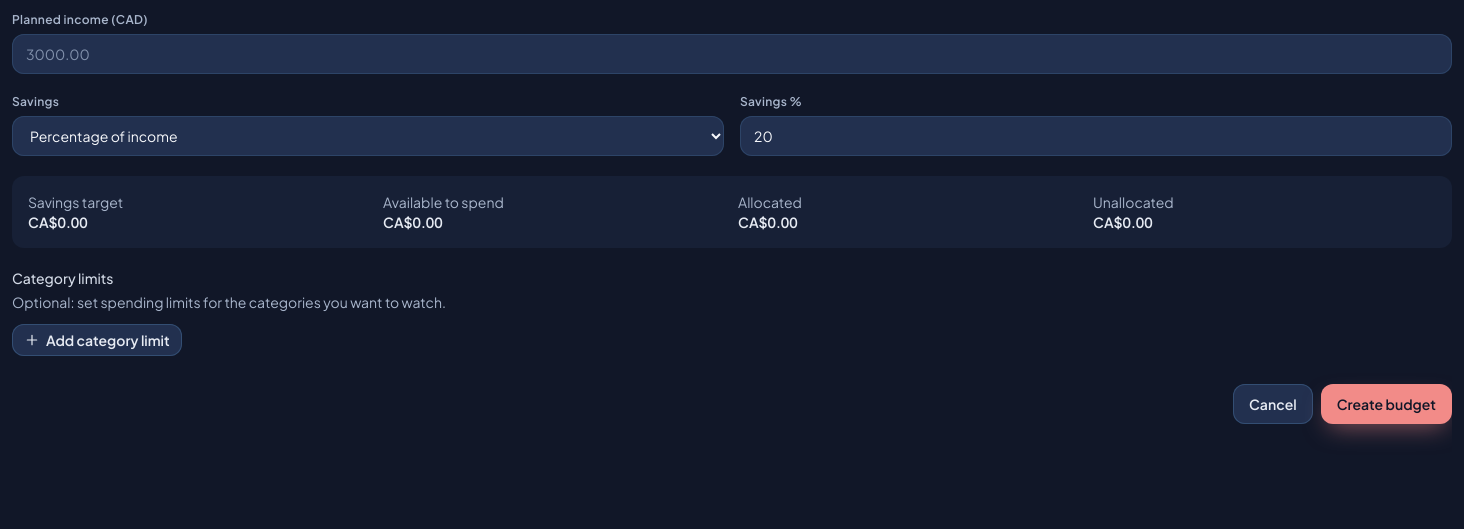
Test case: BudgetForm › previews the plan as the user types and blocks over-allocation
The width and height of the screenshot is (1464, 529).
Type "3000" into the field labelled "Planned income (CAD)" at (732, 54), box [12, 34, 1452, 74]
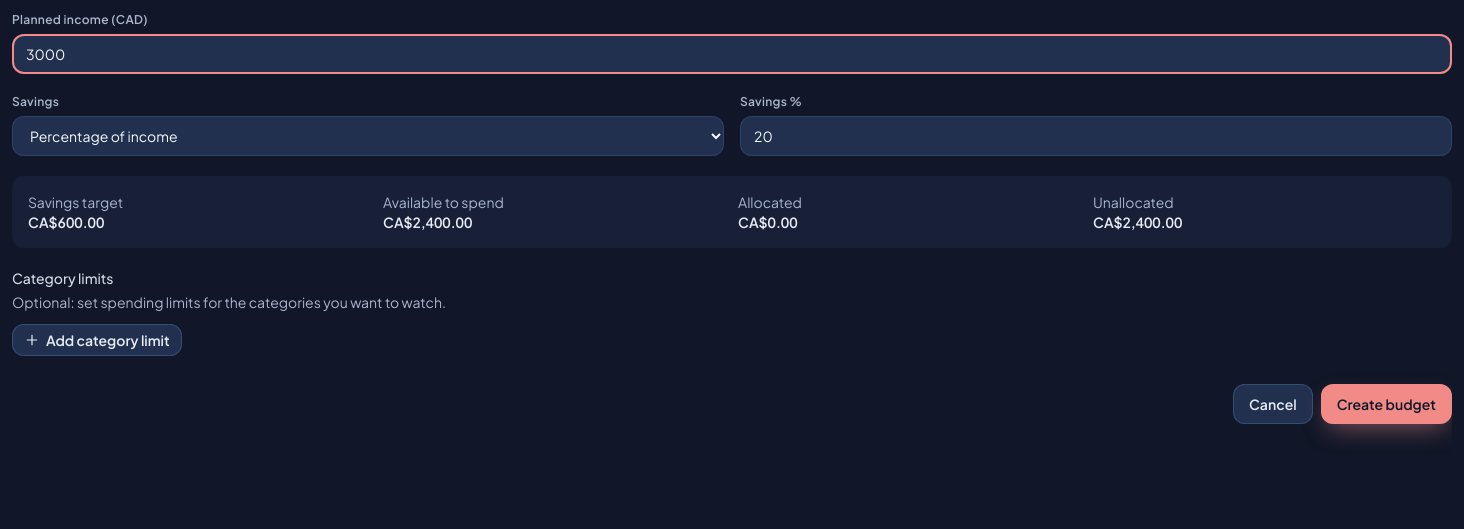
Check: the text "CA$600.00" is shown, box [28, 213, 104, 231]
Check: the text "CA$2,400.00" below "Available to spend" is shown, box [383, 213, 472, 231]
Click the button "Add category limit" at (97, 340), box [12, 324, 182, 356]
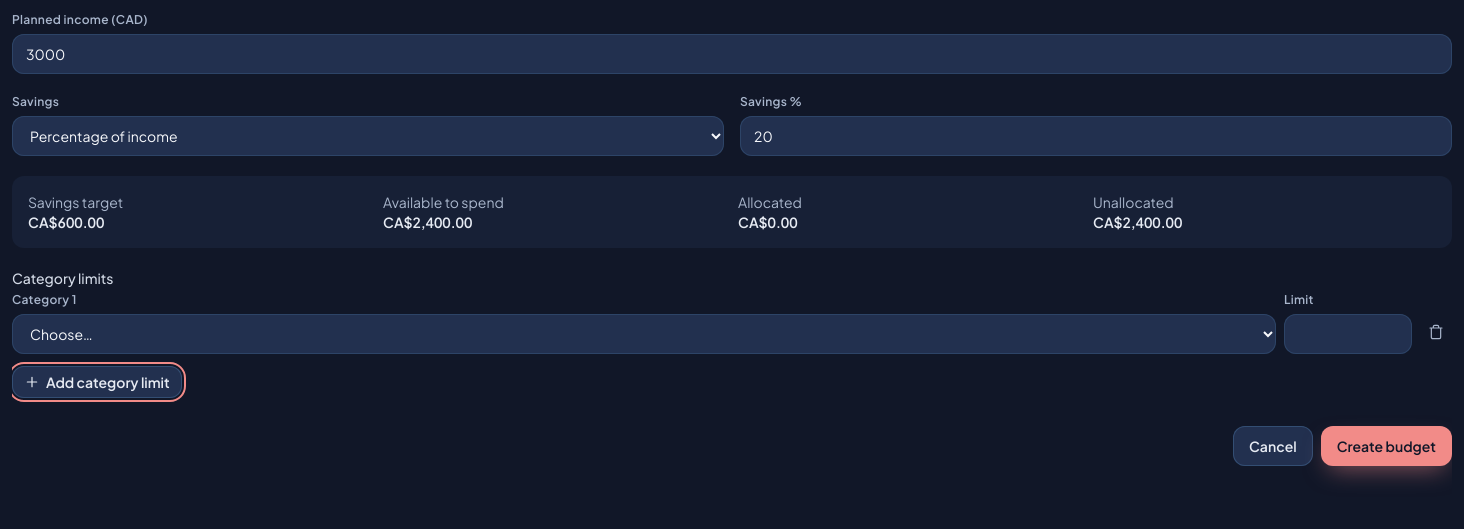
Select "Groceries" in the dropdown labelled "Category 1" at (644, 334), box [12, 314, 1276, 354]
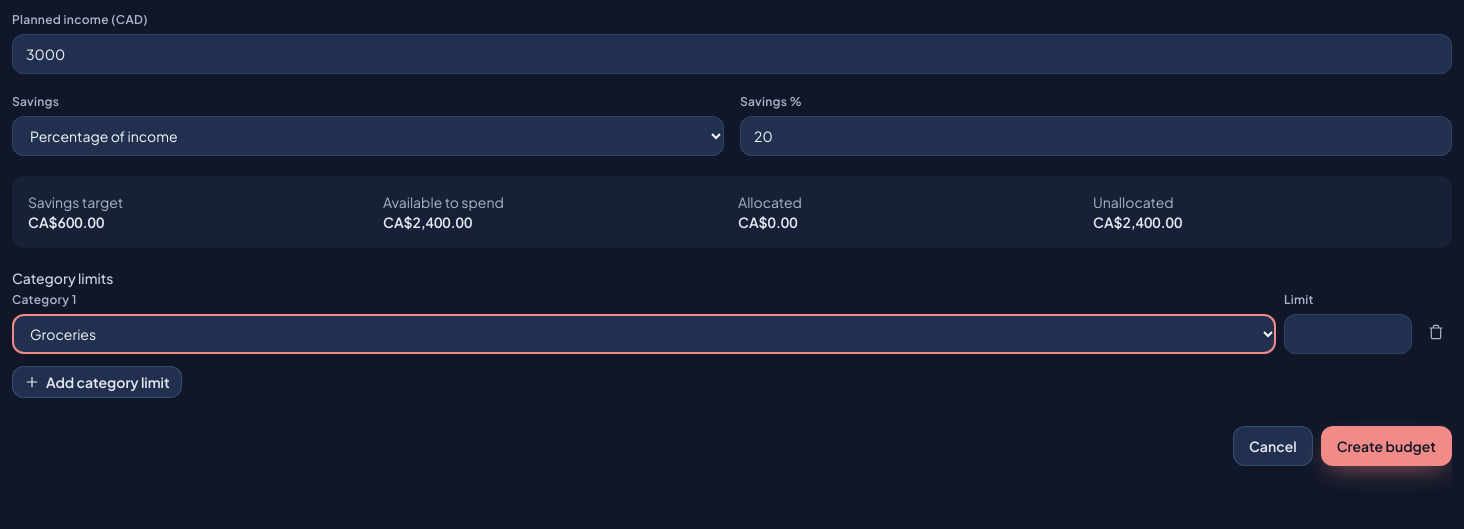
Type "2500" into the field labelled "Limit" at (1348, 334), box [1284, 314, 1412, 354]
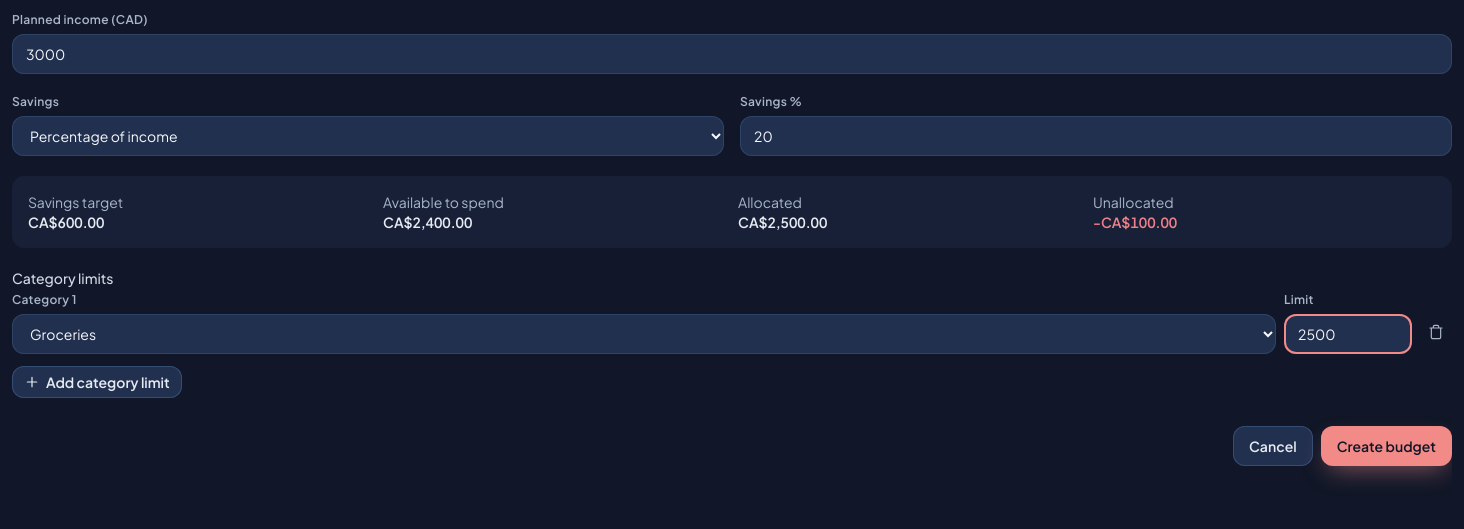
Click the button "Create budget" at (1386, 446), box [1321, 426, 1452, 466]
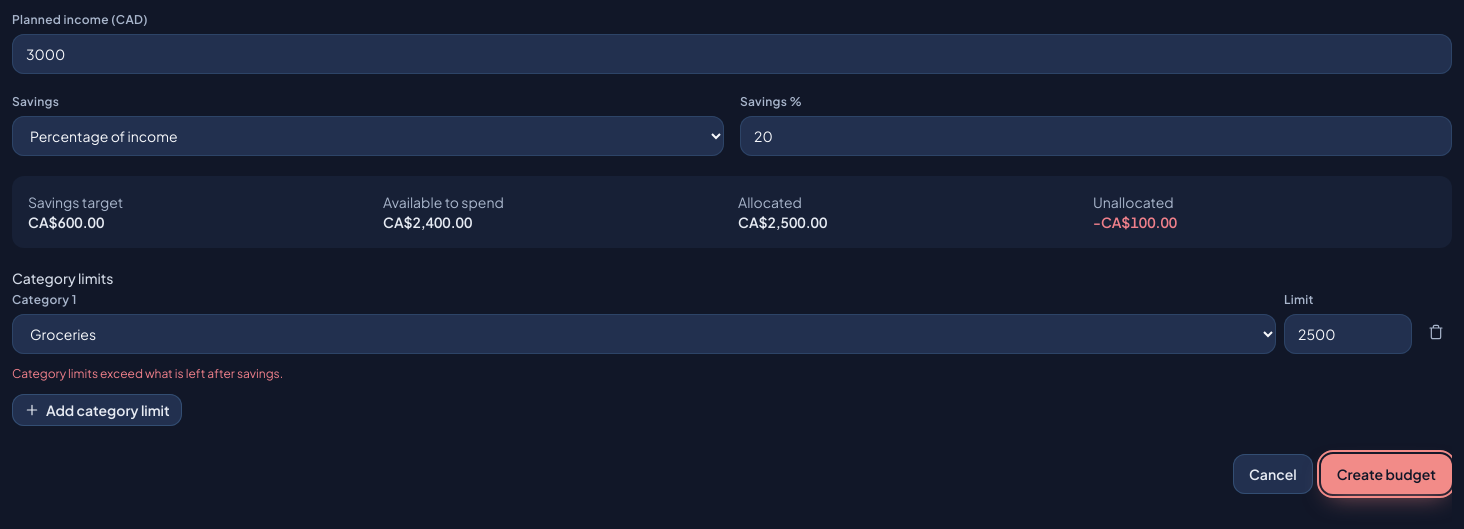
Check: the text "Category limits exceed what is left after savings." is shown, box [12, 366, 283, 381]
